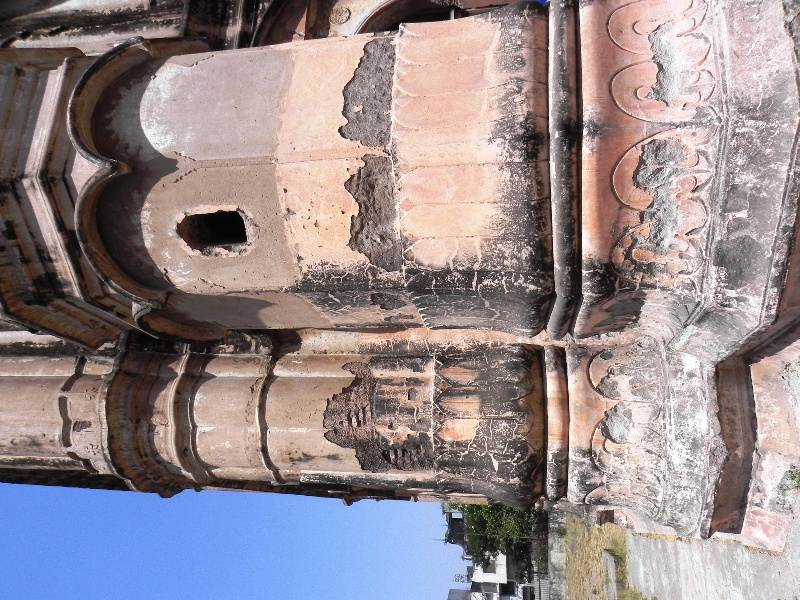Spalling: (337, 33, 413, 284), (314, 351, 446, 477)
